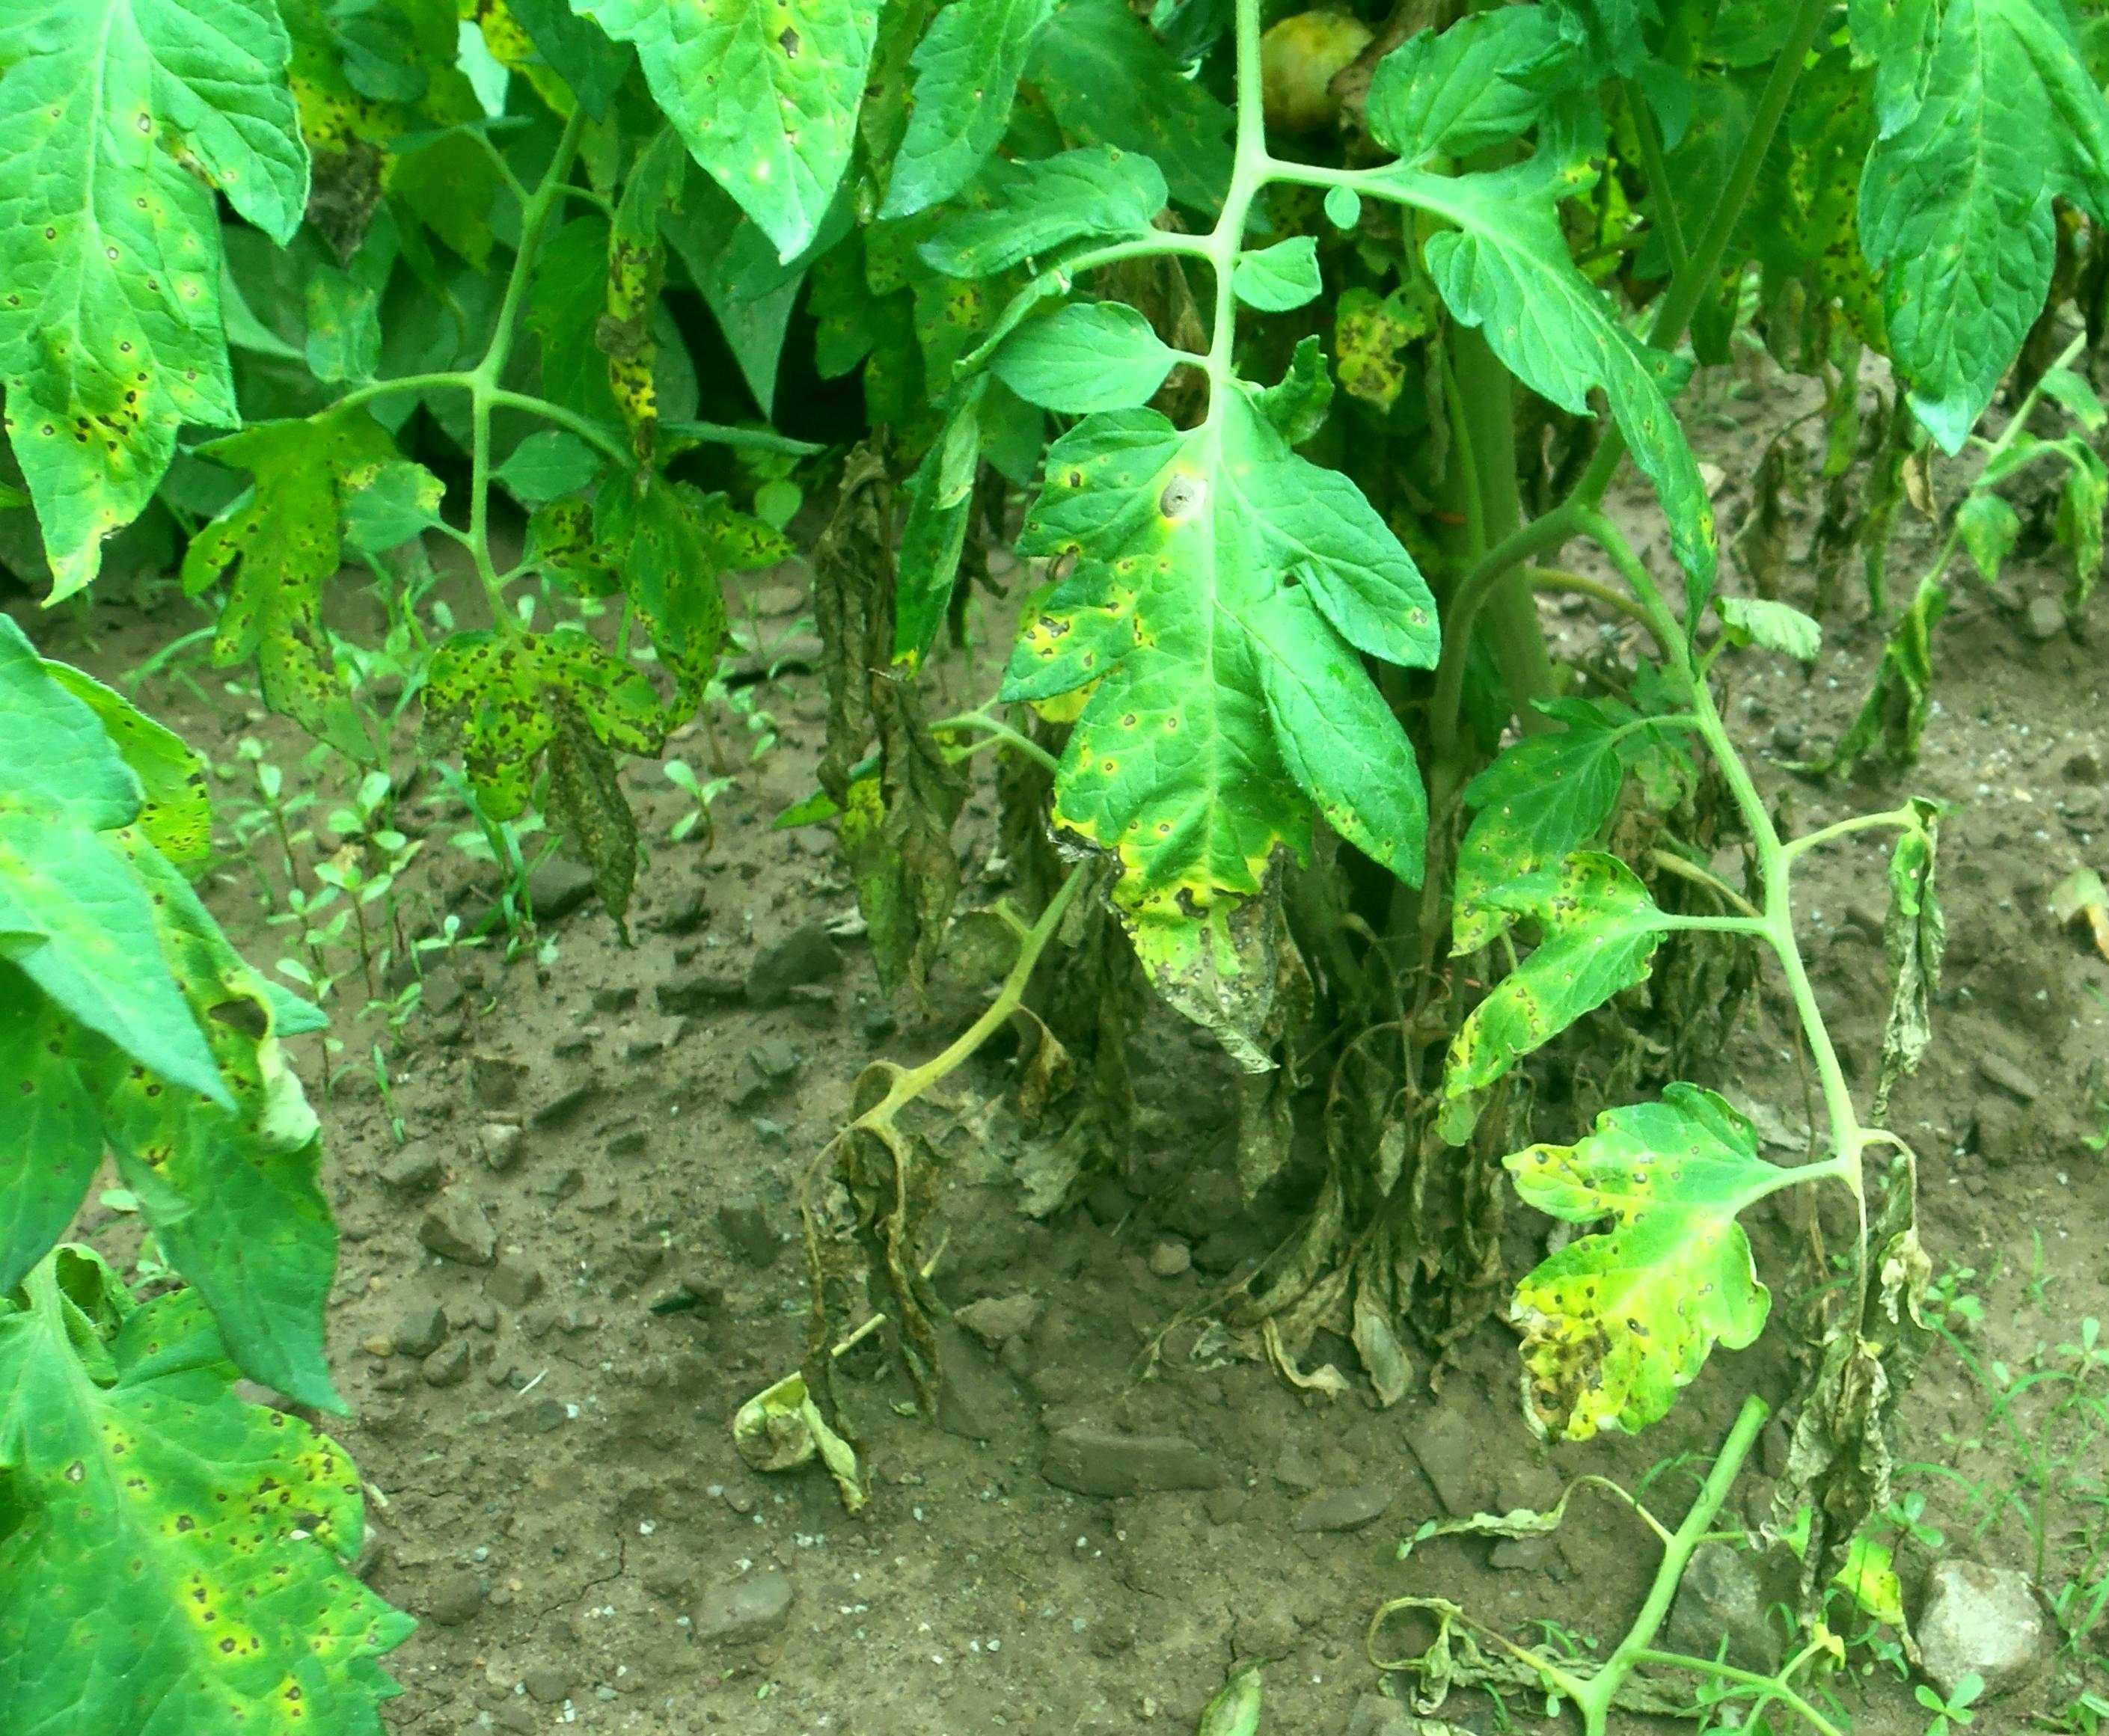Tomato Septoria leaf spot: (993, 361, 1433, 1049), (0, 1260, 476, 1736), (0, 0, 340, 620), (476, 0, 948, 305), (1487, 1070, 1808, 1457), (1440, 879, 1664, 1095)
